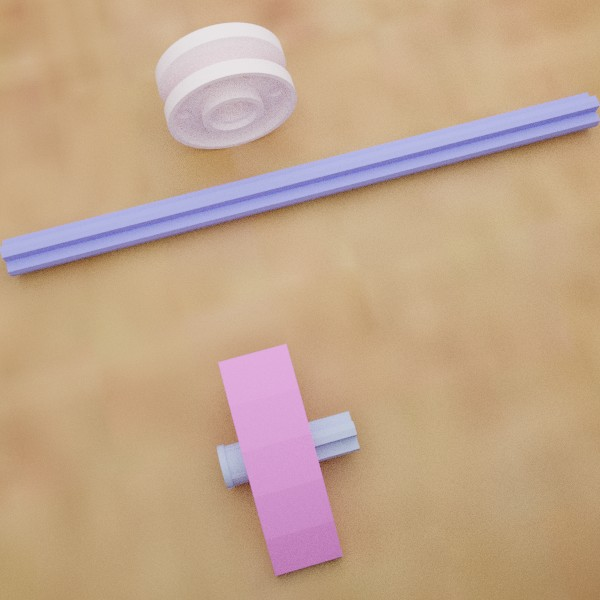lego: (0, 92, 600, 276), (218, 343, 342, 576), (155, 22, 296, 149), (216, 411, 359, 489)
